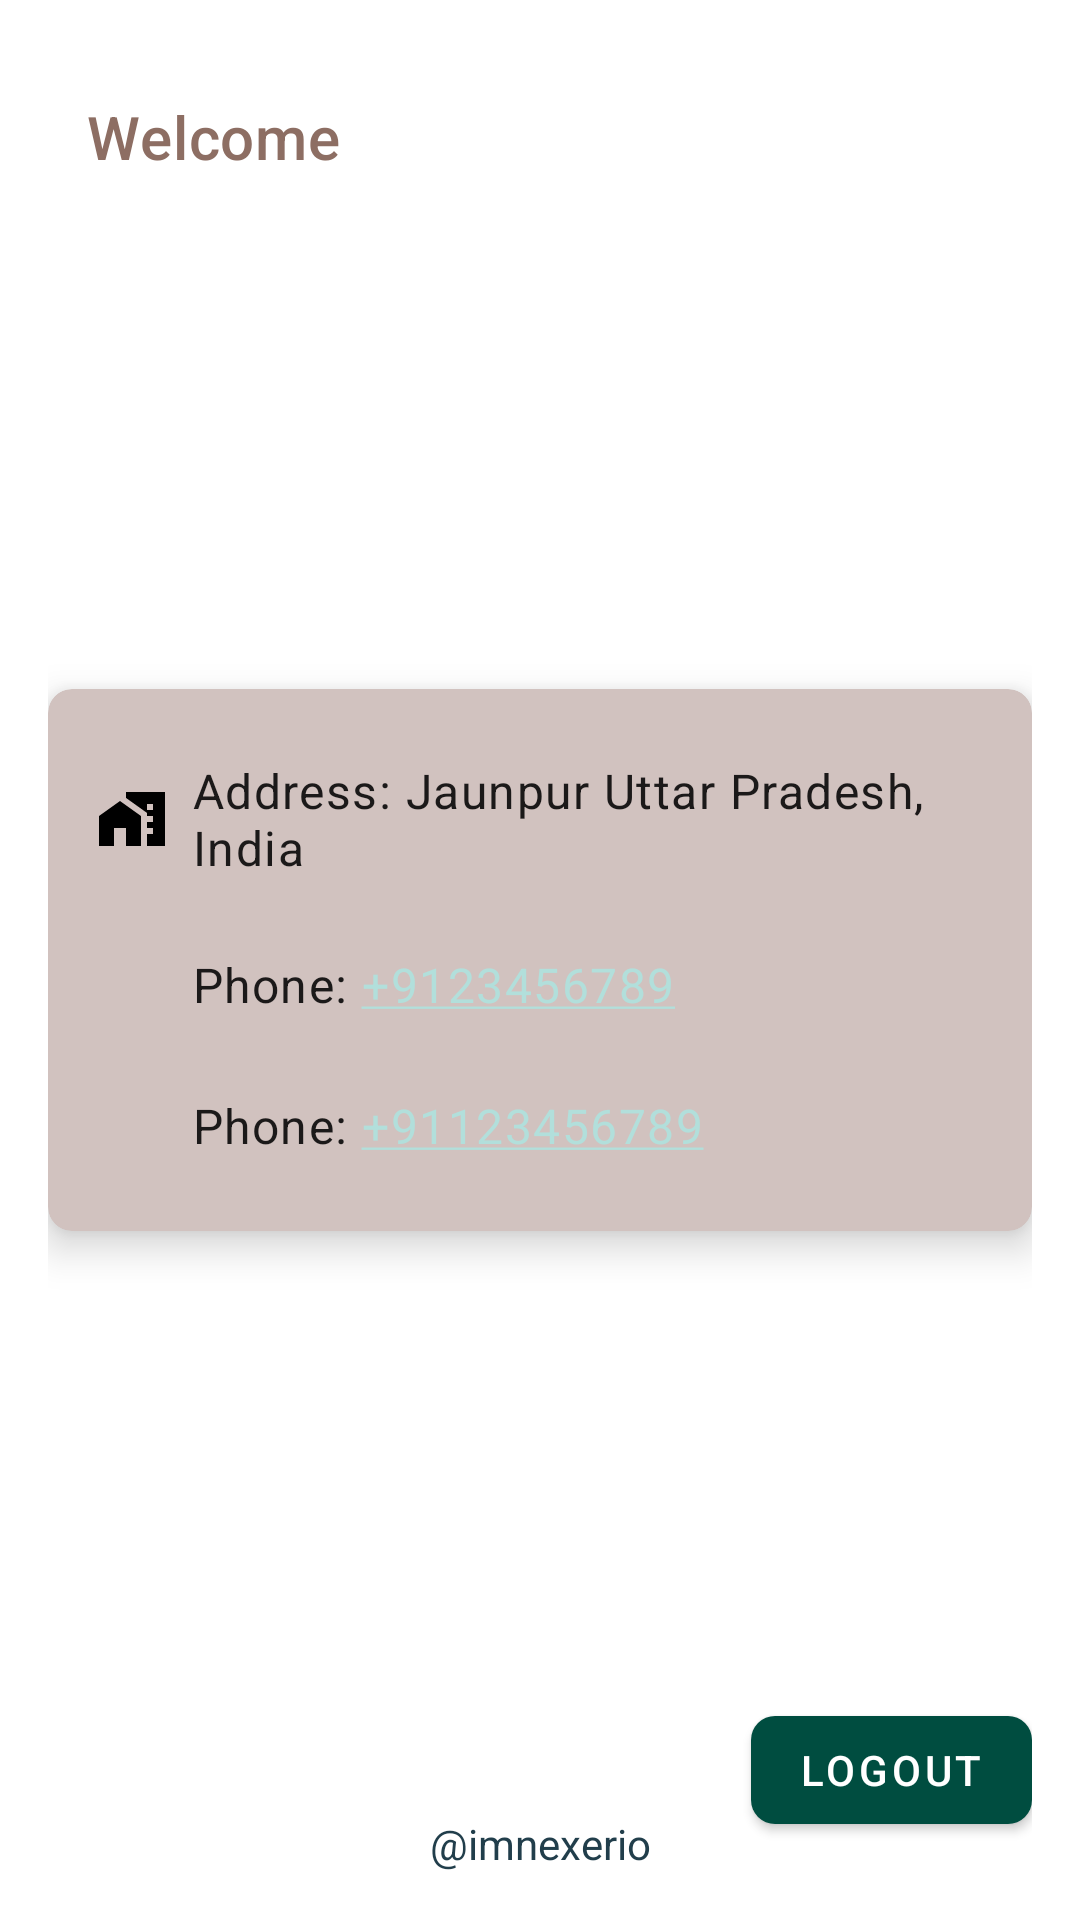

Locate icon controls on the screen. Image size 1080×1920, boxes as {"left": x1, "top": y1, "right": x2, "bottom": y2}.
home work: {"left": 99, "top": 792, "right": 165, "bottom": 846}
